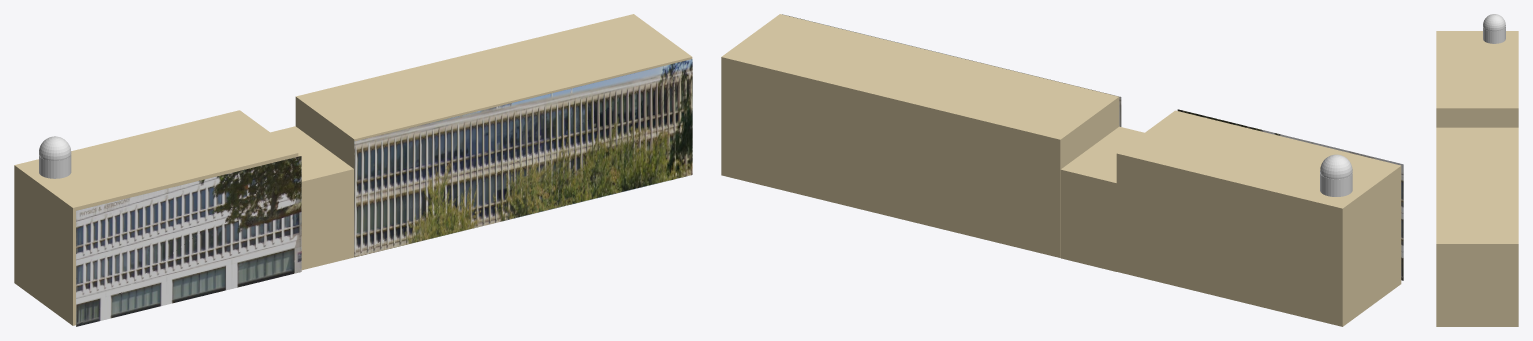
Rendered from serin.glb.
The picture shows the model from 3 angles, left to right: view 1: azimuth 30°, elevation 25°; view 2: azimuth 150°, elevation 25°; view 3: azimuth 270°, elevation 25°; orthographic projection. The views are drawn at different scales.
Visible parts, largest first — view 1: Plane.001, Plane, Cube, Cube.002, Cube.001, Sphere, Cylinder; view 2: Cube, Cube.002, Cube.001, Plane, Sphere, Cylinder; view 3: Cube, Cube.002, Sphere, Cylinder.
Boxes of the visible parts, bbox=[...] form: Plane.001: bbox=[354, 59, 692, 257]; Plane: bbox=[76, 156, 301, 326]; Cube: bbox=[295, 14, 692, 256]; Cube.002: bbox=[14, 110, 298, 325]; Cube.001: bbox=[270, 126, 353, 270]; Sphere: bbox=[39, 136, 71, 160]; Cylinder: bbox=[39, 155, 71, 178]; Cube: bbox=[721, 14, 1119, 257]; Cube.002: bbox=[1116, 110, 1401, 326]; Cube.001: bbox=[1060, 126, 1144, 271]; Plane: bbox=[1177, 109, 1403, 280]; Sphere: bbox=[1320, 154, 1352, 179]; Cylinder: bbox=[1320, 172, 1352, 196]; Cube: bbox=[1436, 127, 1518, 326]; Cube.002: bbox=[1436, 31, 1518, 127]; Sphere: bbox=[1483, 14, 1505, 31]; Cylinder: bbox=[1483, 26, 1505, 43].
Size of the model in its own units: 132 by 30.95 by 22.6.
Materials: 5 (2 with a texture image).
